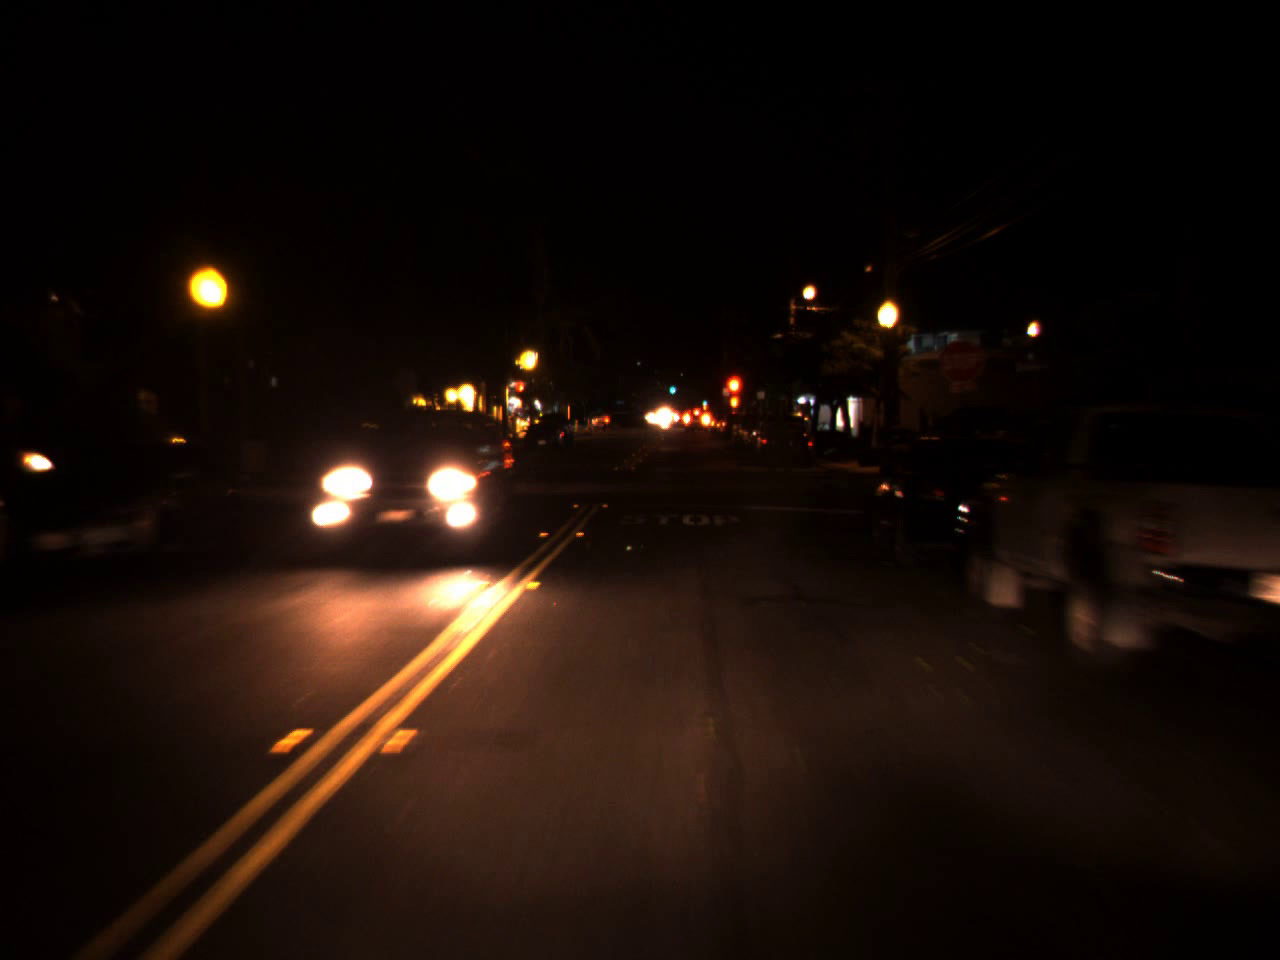go: (667, 380, 676, 395)
stop: (726, 376, 742, 405), (511, 379, 526, 406)
